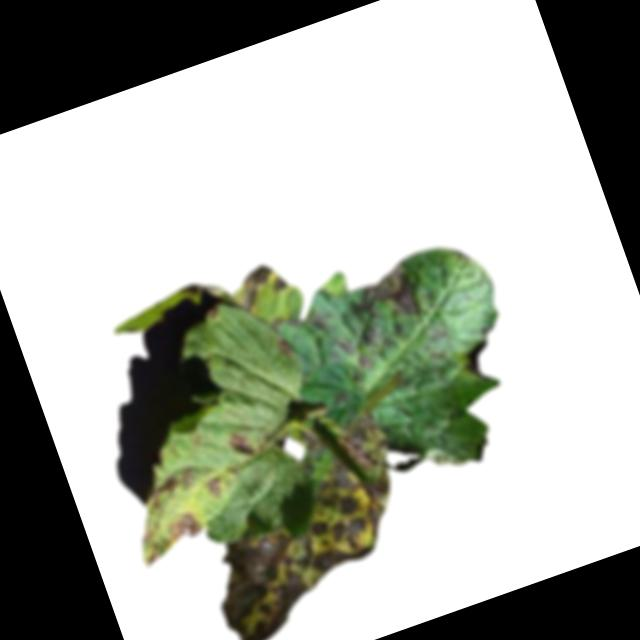Early_blight: (176, 413, 433, 640), (339, 258, 427, 344), (227, 259, 293, 316), (142, 460, 200, 506), (458, 335, 499, 386), (166, 508, 205, 542), (225, 427, 256, 459), (272, 334, 296, 360), (205, 475, 225, 499), (336, 333, 356, 356), (356, 352, 374, 373)
